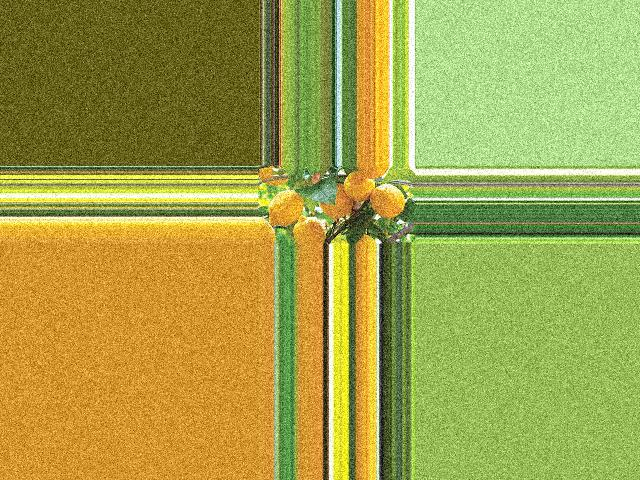lemon: (367, 180, 408, 215)
